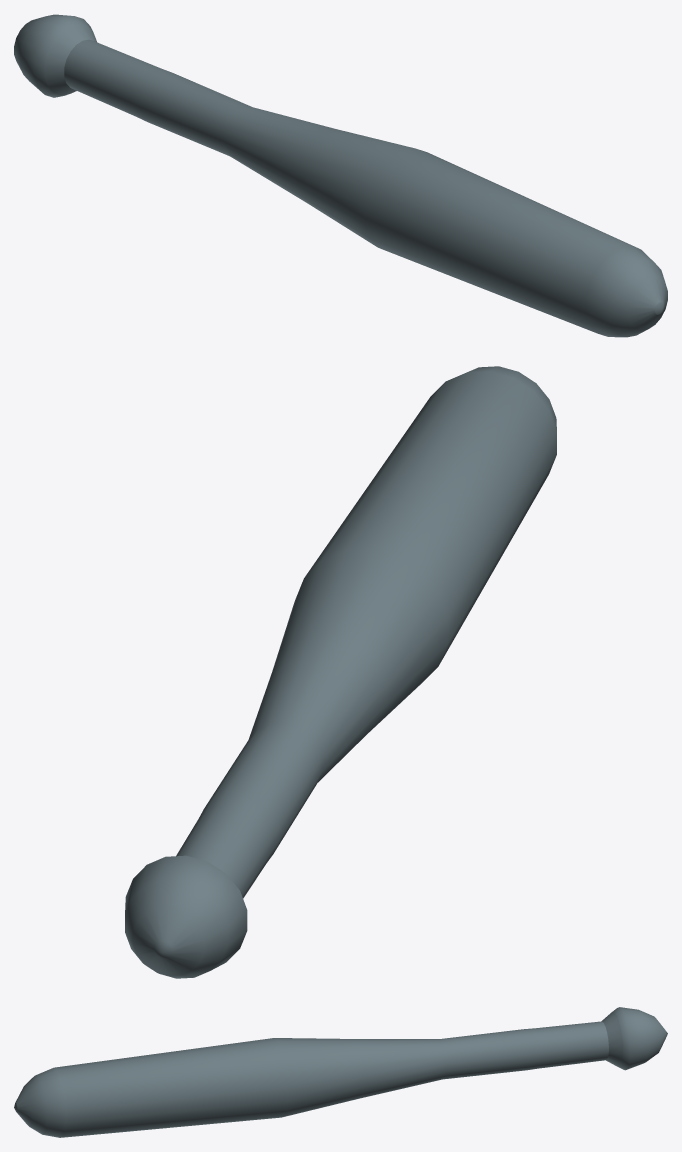
The model's file is SilverBat.fbx.
The picture shows the model from 3 angles, top to bottom: view 1: azimuth 30°, elevation 25°; view 2: azimuth 150°, elevation 25°; view 3: azimuth 270°, elevation 25°; orthographic projection. The views are drawn at different scales.
Visible parts, largest first — view 1: Sphere; view 2: Sphere; view 3: Sphere.
Boxes of the visible parts, x1,y1,x2,y2 form: Sphere: (14, 14, 667, 337); Sphere: (125, 366, 556, 978); Sphere: (14, 1007, 667, 1137).
Bounding box in the file's own units: 841 × 313 × 2546.
